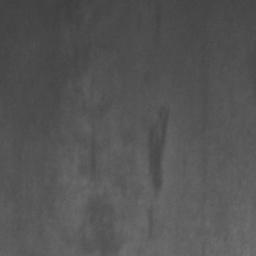Inclusion: (150, 111, 169, 196)
